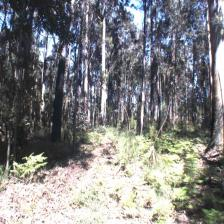trunktrack_idkeyframe: (50, 63, 66, 141), (72, 71, 78, 141)
